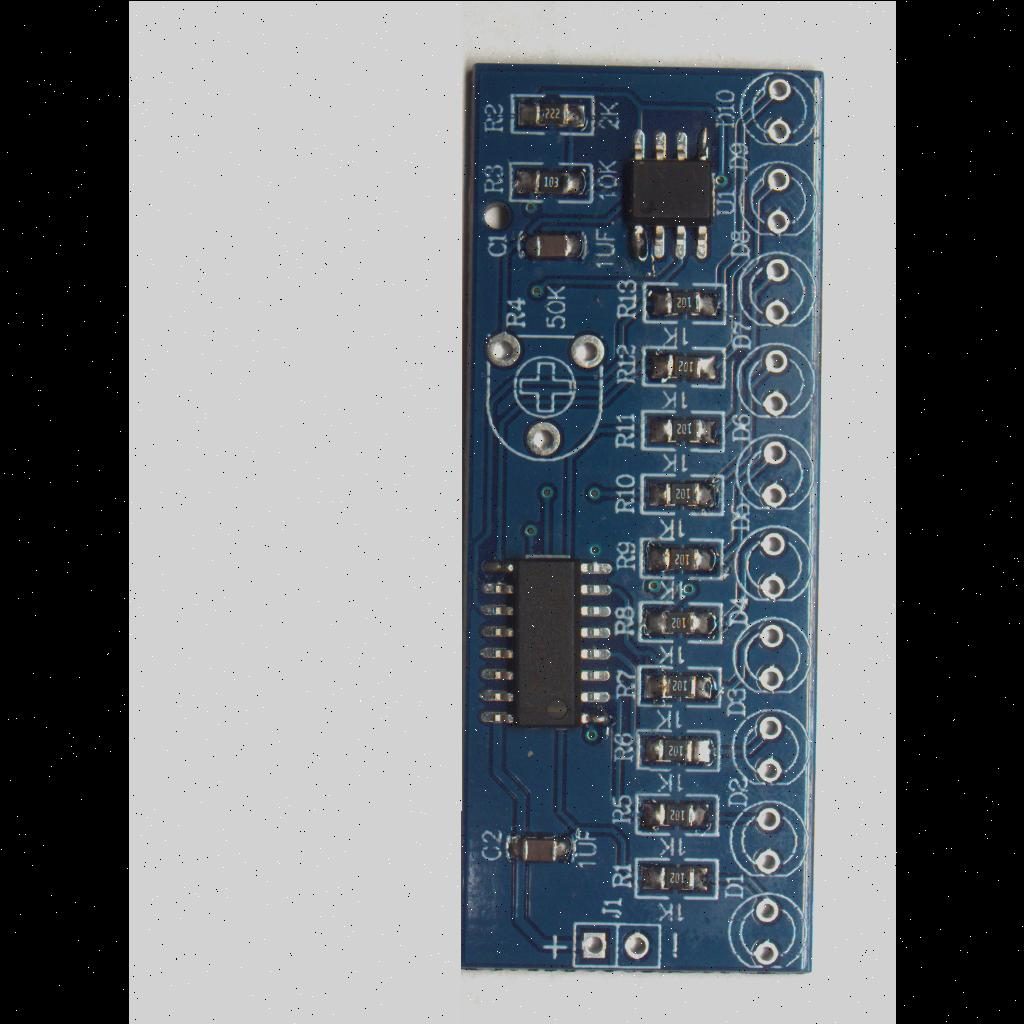OK: (470, 546, 622, 734), (620, 114, 720, 268), (636, 469, 728, 517), (634, 726, 724, 774), (636, 598, 726, 646), (510, 90, 598, 138), (506, 158, 596, 204), (632, 791, 722, 837), (631, 854, 721, 900), (636, 535, 726, 581), (640, 280, 728, 326), (639, 344, 729, 388), (633, 664, 723, 708), (639, 408, 729, 452), (512, 224, 590, 264), (502, 828, 578, 864)
